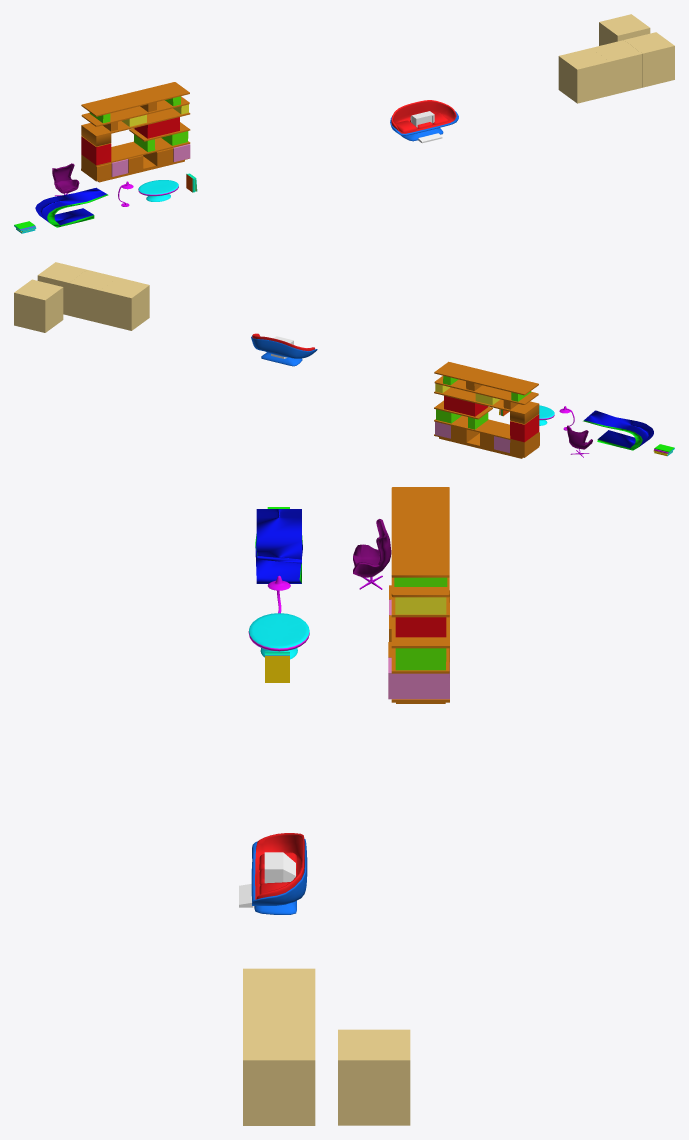
The model's file is SM_Sofa.fbx.
3 renders of one model, top to bottom at view 1: azimuth 30°, elevation 25°; view 2: azimuth 150°, elevation 25°; view 3: azimuth 270°, elevation 25°, orthographic. The views are drawn at different scales.
Parts seen in each view (by area): view 1: SHELF.052, REFERENCIEL.002, SHELF.001, REFERENCIEL, REFERENCIEL.001, REFERENCIEL.003, Cube.002; view 2: SHELF.052, REFERENCIEL.003, REFERENCIEL.002, REFERENCIEL, SHELF.001, REFERENCIEL.001; view 3: SHELF.052, REFERENCIEL.001, REFERENCIEL.003, SHELF.001, REFERENCIEL, REFERENCIEL.002, Cube.002.
Boxes of the visible parts, x1,y1,x2,y2 form: SHELF.052: (14, 82, 197, 233); REFERENCIEL.002: (558, 48, 609, 103); SHELF.001: (390, 100, 458, 141); REFERENCIEL: (591, 40, 642, 95); REFERENCIEL.001: (624, 32, 674, 87); REFERENCIEL.003: (599, 14, 650, 45); Cube.002: (410, 111, 442, 143); SHELF.052: (434, 361, 674, 458); REFERENCIEL.003: (14, 279, 63, 332); REFERENCIEL.002: (100, 277, 149, 330); REFERENCIEL: (69, 270, 117, 323); SHELF.001: (251, 333, 317, 366); REFERENCIEL.001: (37, 262, 86, 315); SHELF.052: (248, 487, 449, 703); REFERENCIEL.001: (243, 1029, 315, 1125); REFERENCIEL.003: (338, 1029, 410, 1125); SHELF.001: (251, 833, 307, 914); REFERENCIEL: (243, 999, 315, 1029); REFERENCIEL.002: (243, 968, 315, 998); Cube.002: (239, 852, 295, 907).
Size of the model in its own units: 1997 by 202 by 292.
